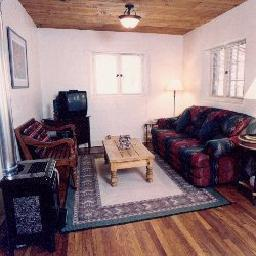Electrodomestico: (8, 163, 69, 244)
